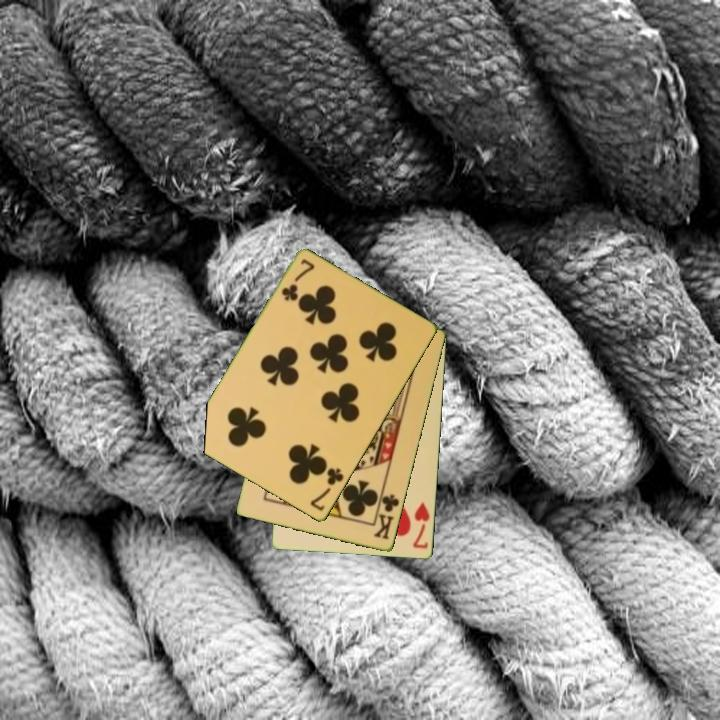7c: (307, 465, 347, 514), (278, 256, 318, 305)
7h: (409, 499, 433, 552)
Kc: (371, 487, 402, 543)
